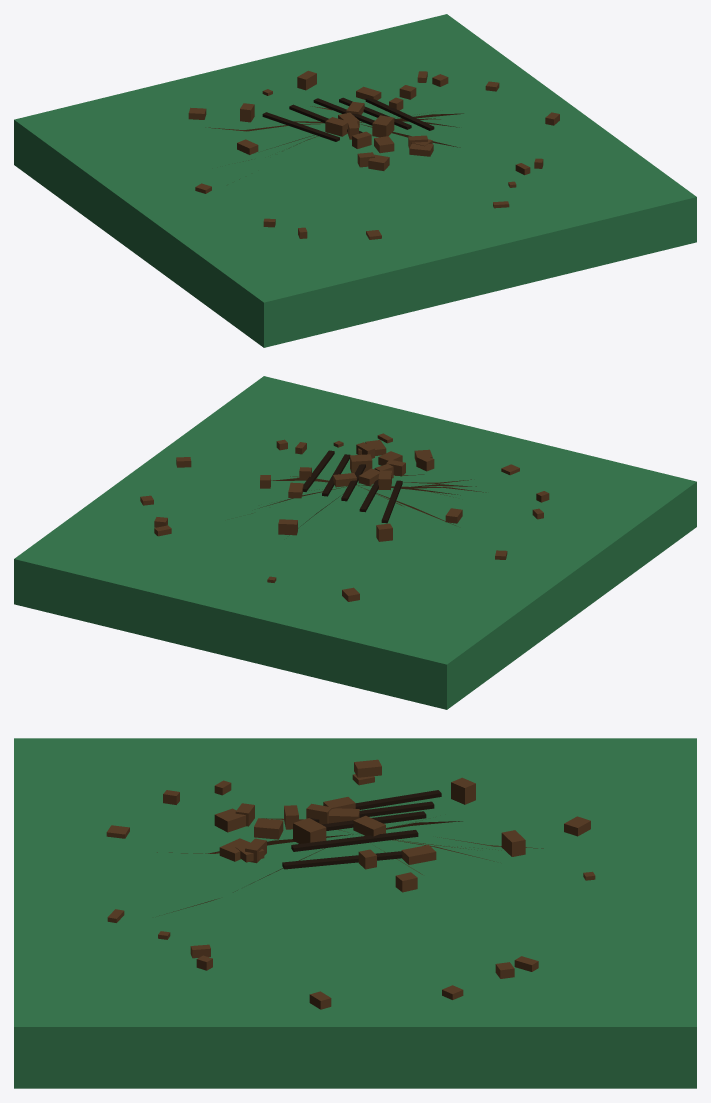
The model's file is PF_Floor_DogFilledHole_Merged.obj.
3 views of the same model, one above another, from view 1: azimuth 30°, elevation 25°; view 2: azimuth 150°, elevation 25°; view 3: azimuth 270°, elevation 25° (orthographic). The views are drawn at different scales.
Parts seen in each view (by area): view 1: PF_Floor_DogFilledHole_Merged; view 2: PF_Floor_DogFilledHole_Merged; view 3: PF_Floor_DogFilledHole_Merged.
Part boxes in pixels (x1=…): PF_Floor_DogFilledHole_Merged: x1=14, y1=14, x2=696, y2=347; PF_Floor_DogFilledHole_Merged: x1=14, y1=376, x2=696, y2=709; PF_Floor_DogFilledHole_Merged: x1=14, y1=738, x2=696, y2=1088.
Size of the model in its own units: 1 by 0.2045 by 1.
